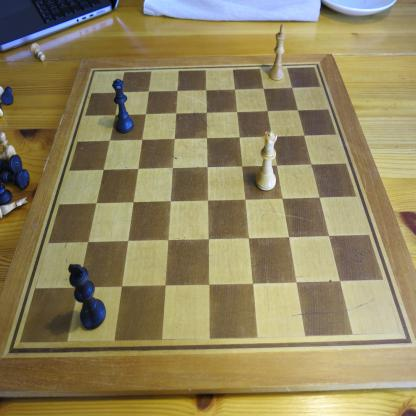black-king: (68, 263, 107, 331)
black-queen: (112, 78, 134, 135)
white-king: (269, 23, 286, 81)
white-knight: (1, 197, 28, 220)
white-pawn: (30, 42, 46, 62), (0, 132, 9, 152)
white-queen: (255, 130, 278, 192)
